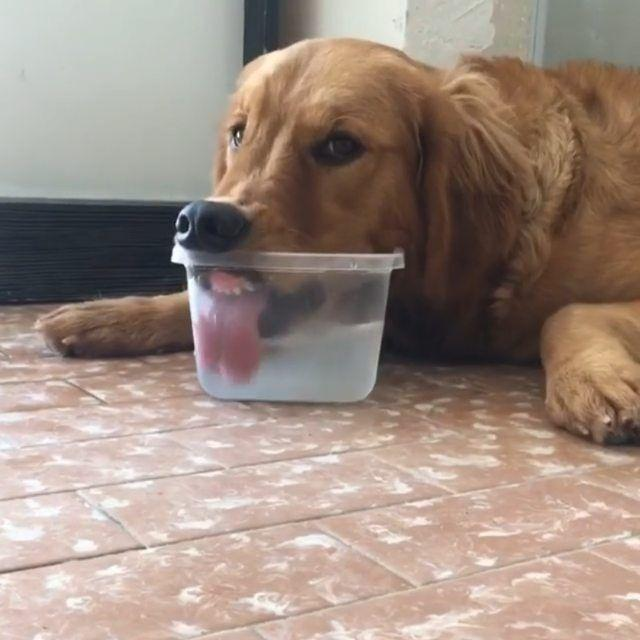adult_dog: (23, 25, 640, 459)
